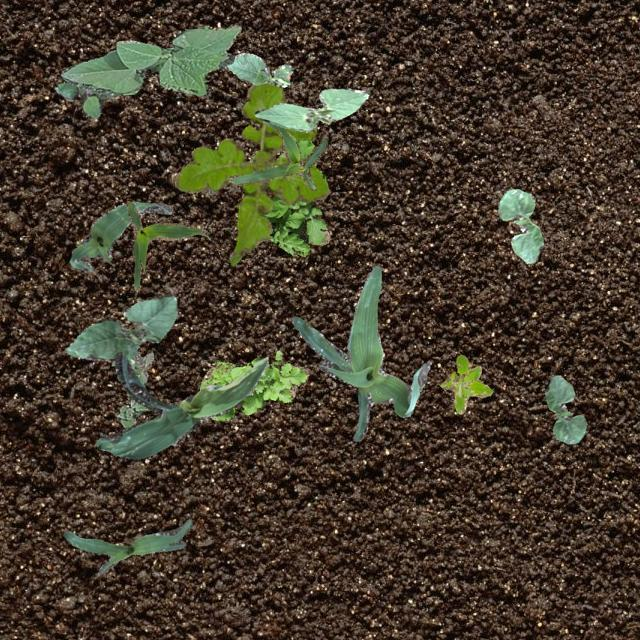crop: (290, 264, 430, 440), (95, 352, 268, 458), (59, 24, 240, 96), (65, 292, 176, 360), (68, 200, 172, 272), (126, 200, 207, 292), (62, 518, 190, 574), (228, 119, 326, 190), (254, 88, 368, 132), (497, 188, 542, 262), (544, 373, 586, 442), (224, 51, 292, 85)
weed: (173, 82, 329, 264), (248, 130, 329, 256), (199, 350, 307, 420), (439, 353, 492, 412), (116, 350, 152, 428), (54, 80, 116, 118)
